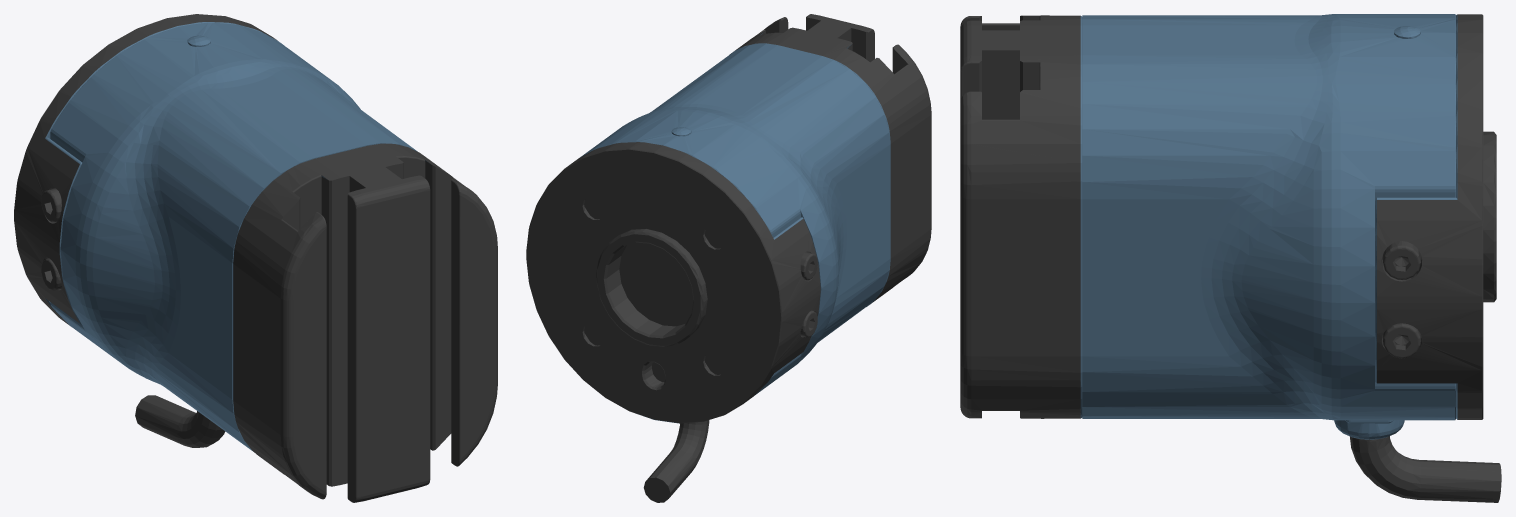
The picture shows the model from 3 angles, left to right: view 1: azimuth 30°, elevation 25°; view 2: azimuth 150°, elevation 25°; view 3: azimuth 270°, elevation 25°; orthographic projection. The views are drawn at different scales.
Parts seen in each view (by area): view 1: base_link.001; view 2: base_link.001; view 3: base_link.001.
Part boxes in pixels (x1=…): base_link.001: x1=14, y1=14, x2=497, y2=502; base_link.001: x1=526, y1=14, x2=931, y2=502; base_link.001: x1=960, y1=14, x2=1501, y2=502.
Size of the model in its own units: 0.0751 by 0.0974 by 0.0999.
